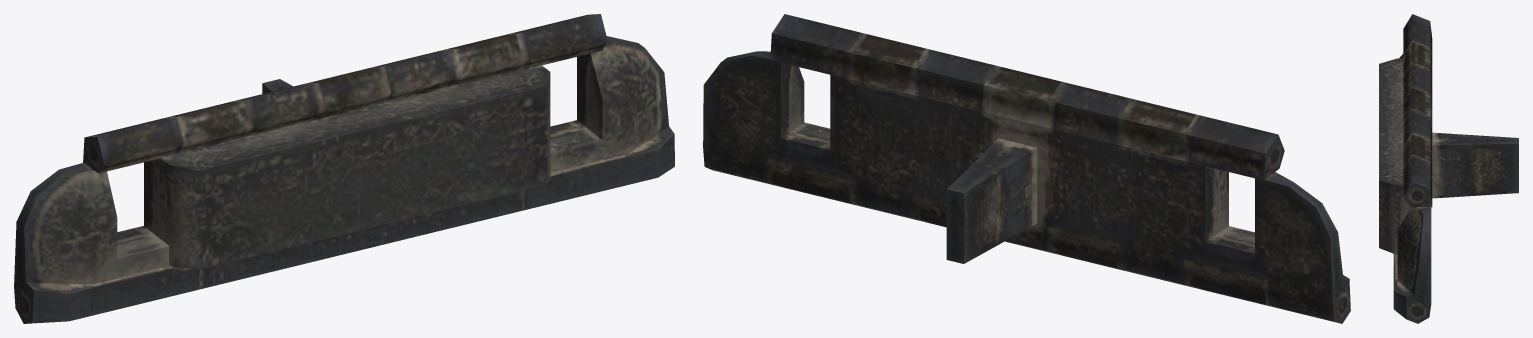
3 renders of one model, left to right at view 1: azimuth 30°, elevation 25°; view 2: azimuth 150°, elevation 25°; view 3: azimuth 270°, elevation 25°, orthographic. The views are drawn at different scales.
Parts seen in each view (by area): view 1: set_0_group_0; view 2: set_0_group_0; view 3: set_0_group_0.
Part boxes in pixels (bbox=[...]): set_0_group_0: bbox=[14, 14, 674, 323]; set_0_group_0: bbox=[703, 14, 1350, 323]; set_0_group_0: bbox=[1379, 14, 1518, 323].
Size of the model in its own units: 0.6704 by 0.1727 by 0.1846.
Materials: 1 (1 with a texture image).
